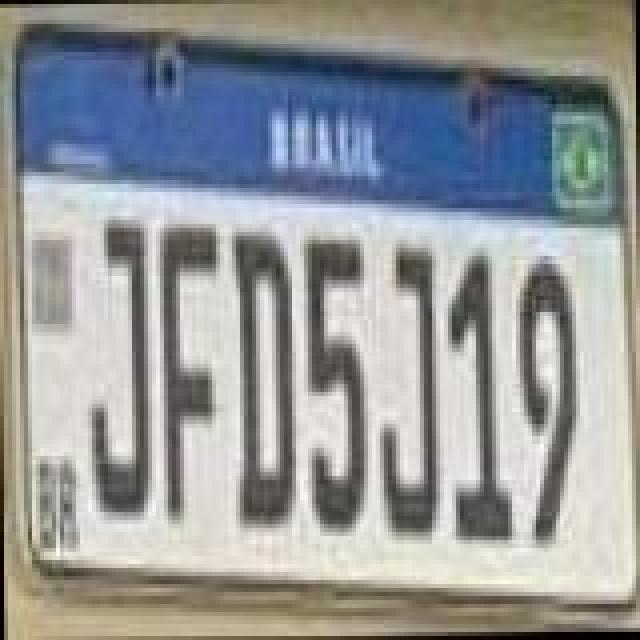1: (444, 248, 520, 552)
5: (304, 230, 372, 534)
9: (512, 254, 580, 546)
D: (228, 222, 300, 526)
F: (158, 216, 226, 528)
J: (376, 240, 444, 544), (88, 216, 152, 528)
